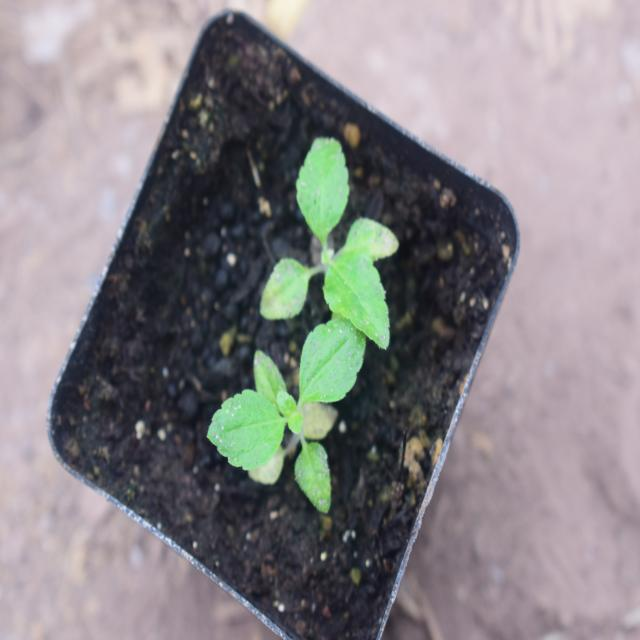billygoat_weed: (198, 302, 370, 514), (280, 150, 398, 372)
